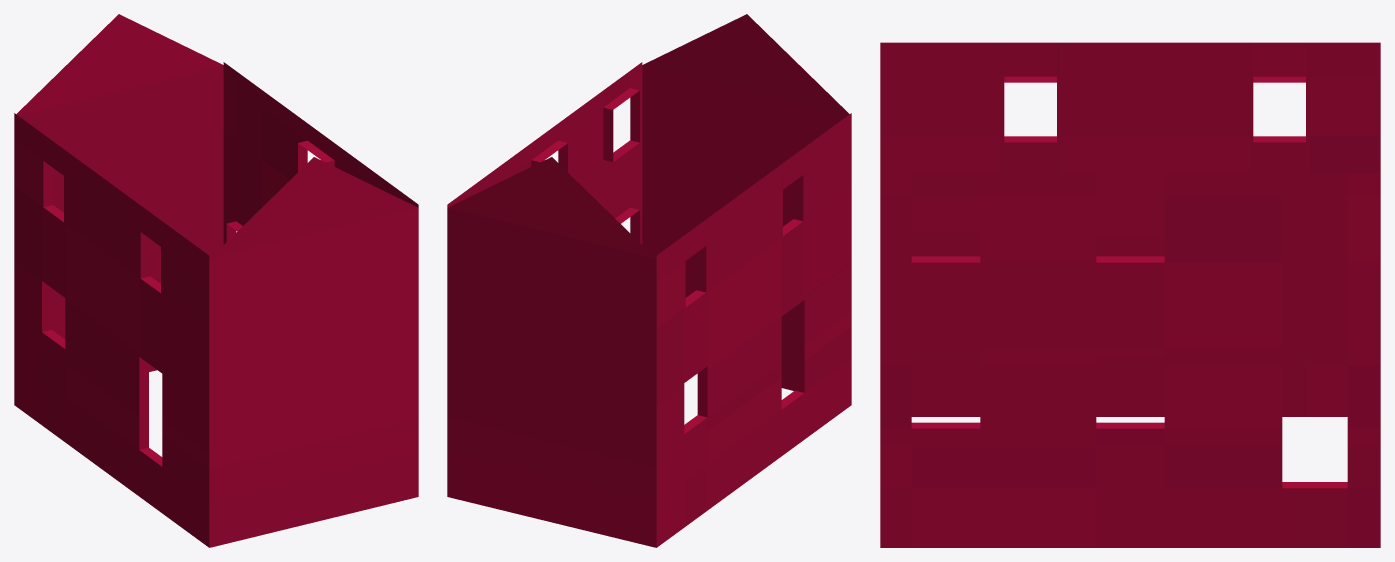
File: SM_Bld_098_Masonry.glb
3 views of the same model, side by side, from view 1: azimuth 30°, elevation 25°; view 2: azimuth 150°, elevation 25°; view 3: azimuth 270°, elevation 25° (orthographic). The views are drawn at different scales.
Visible parts, largest first — view 1: SM_Bld_098_Masonry; view 2: SM_Bld_098_Masonry; view 3: SM_Bld_098_Masonry.
Boxes of the visible parts, box(x1,y1,x2,y2) form: SM_Bld_098_Masonry: box(14, 14, 418, 547); SM_Bld_098_Masonry: box(447, 14, 851, 547); SM_Bld_098_Masonry: box(880, 42, 1380, 547).
Bounding box in the file's own units: 4.7 × 7.84 × 7.59.
